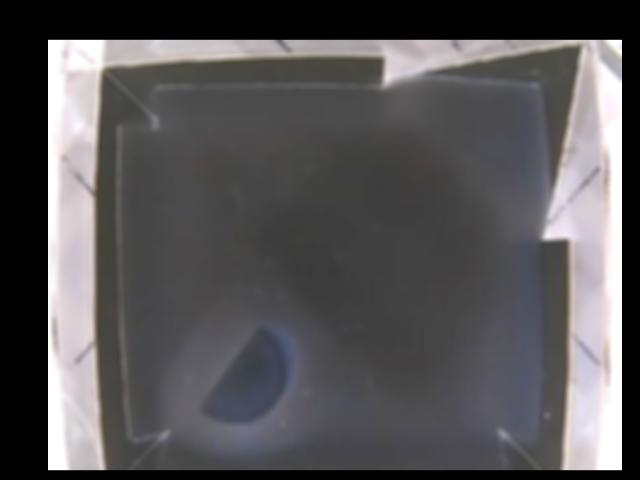Mooli: (195, 324, 293, 421)
